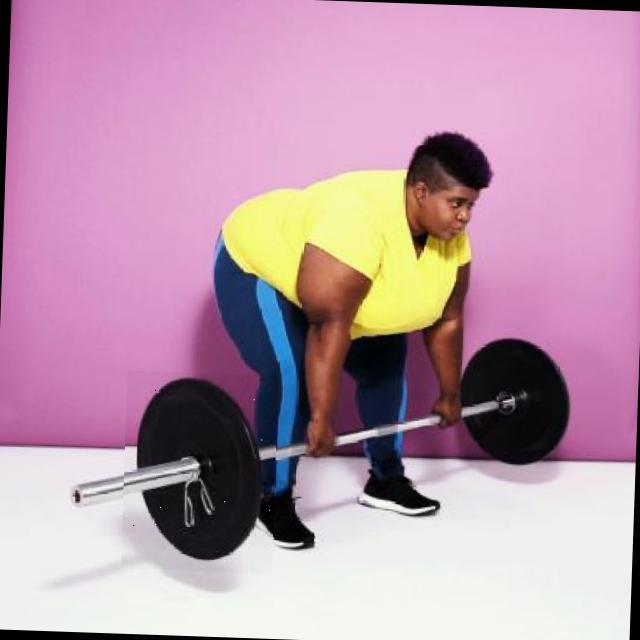barbell: (121, 372, 279, 577)
